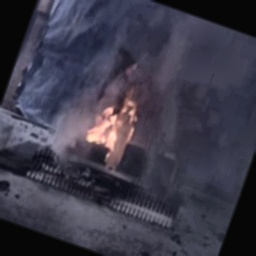fire: (81, 81, 149, 166)
